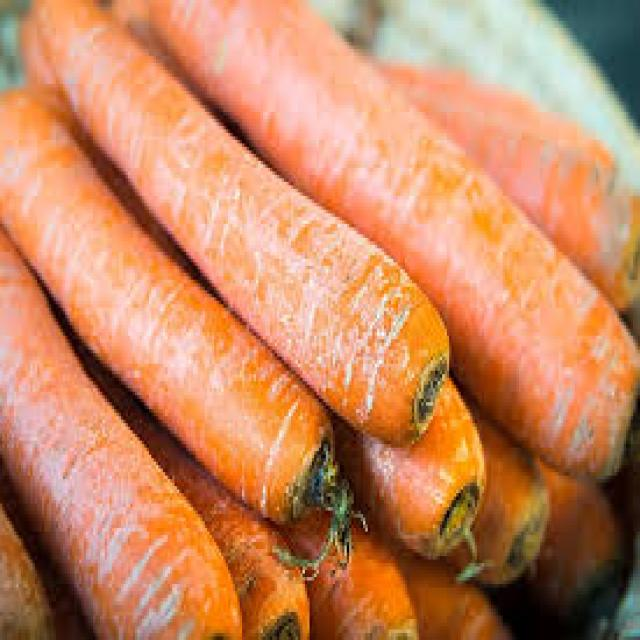Fresh_Carrot: (35, 31, 577, 640)
